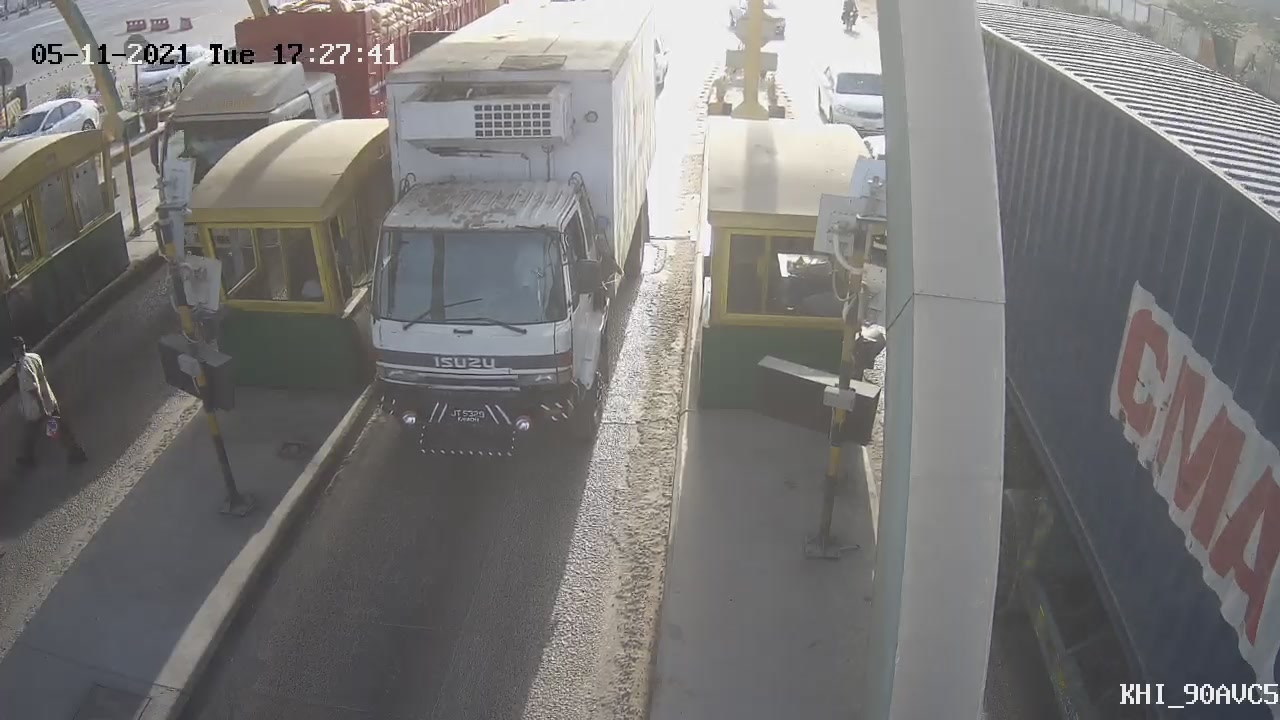F5: (316, 3, 685, 487)
